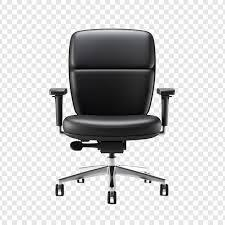chair: (49, 29, 175, 205)
